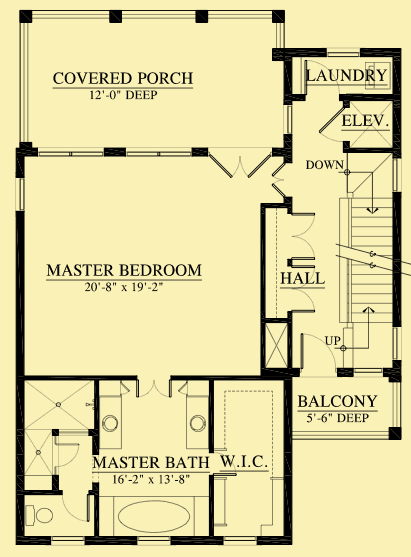door: (208, 143, 272, 184), (297, 332, 337, 379), (286, 208, 316, 264), (313, 106, 349, 146), (133, 373, 176, 402), (59, 490, 95, 523), (53, 442, 81, 470)
large_sink: (22, 500, 56, 529)
small_sink: (183, 392, 209, 452), (97, 395, 124, 449)
stairs: (335, 194, 397, 329)
tub: (108, 495, 196, 536)
window: (119, 145, 192, 161), (33, 145, 105, 157), (9, 173, 27, 214), (281, 103, 295, 139)
